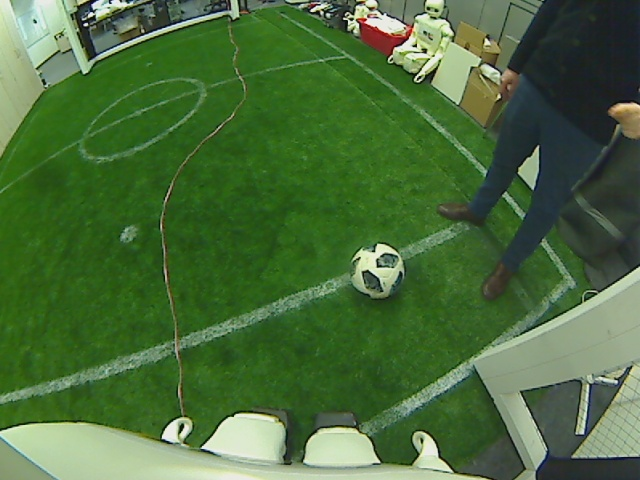ball: (347, 242, 406, 298)
